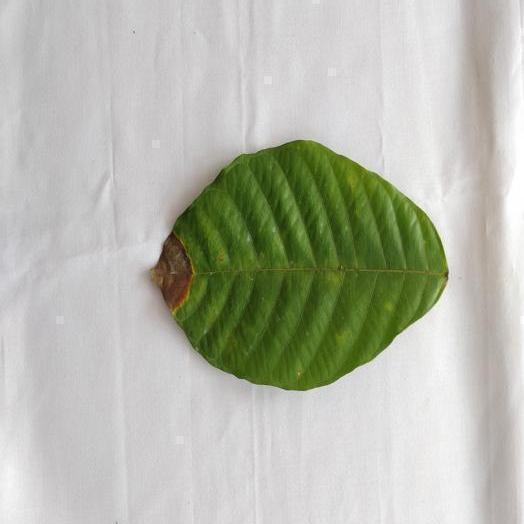Potassium: (153, 140, 447, 389)
